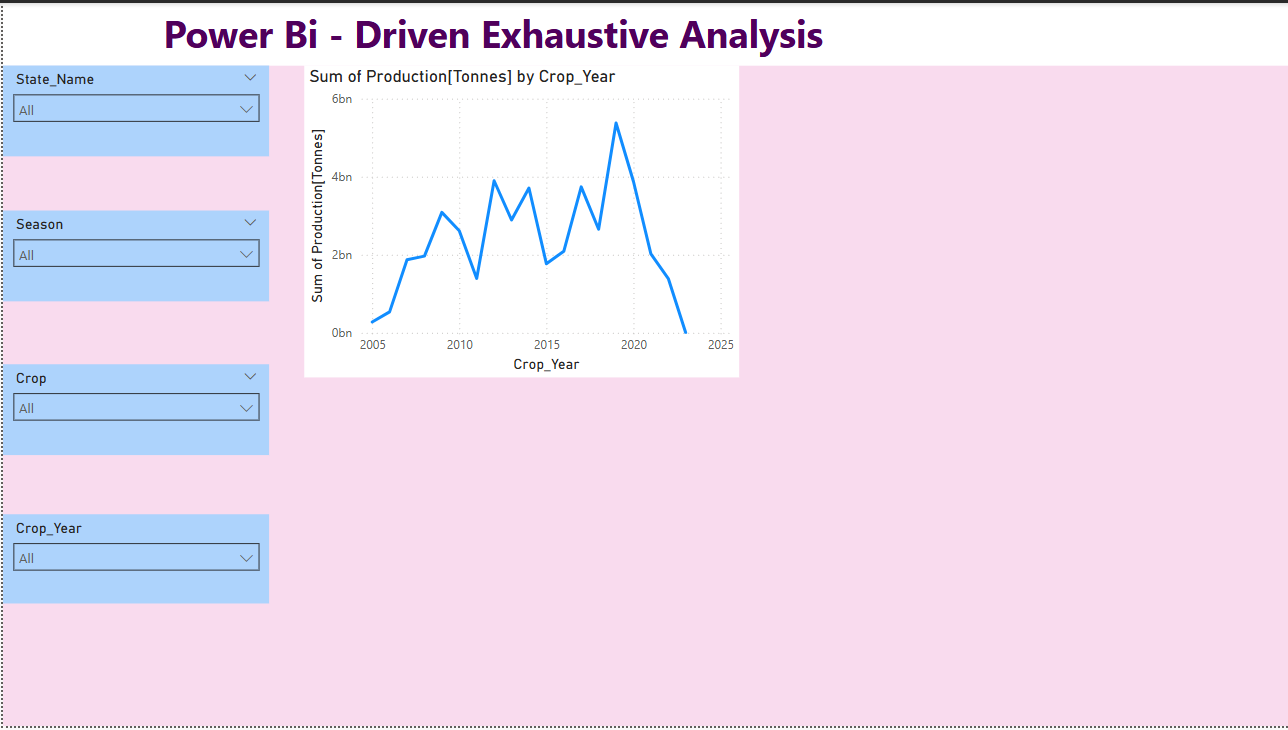

The page's visual inventory and layout, read from the dashboard file:
{"tool":"powerbi","page":{"name":"week 1","canvas":[1280,720],"ordinal":1},"visuals":[{"type":"textbox","box":[0,0,1280,62.5],"z":0},{"type":"slicer","fields":{"Values":["Crop_data.State_Name"]},"box":[0,62.5,265,90],"z":1000},{"type":"slicer","fields":{"Values":["Crop_data.Crop"]},"box":[0,360,265,90],"z":2000},{"type":"slicer","fields":{"Values":["Crop_data.Season"]},"box":[0,206.2,265,90],"z":3000},{"type":"slicer","fields":{"Values":["Crop_data.Crop_Year"]},"box":[0,508.8,265,88.8],"z":4000},{"type":"lineChart","fields":{"Category":["Crop_data.Crop_Year"],"Y":["Sum(Crop_data.Production[Tonnes])"]},"box":[300,62.5,432.5,310],"z":4001}]}

Visuals, with their boxes in screenshot pixels (x1, y1, x2, y2), scaled from the page's 1280x720 canvas onto the 1288x730 screenshot:
textbox: bbox=(0, 0, 1287, 63)
slicer - Crop_data.State_Name: bbox=(0, 63, 267, 155)
slicer - Crop_data.Crop: bbox=(0, 365, 267, 456)
slicer - Crop_data.Season: bbox=(0, 209, 267, 300)
slicer - Crop_data.Crop_Year: bbox=(0, 516, 267, 606)
lineChart - Crop_data.Crop_Year x Sum(Crop_data.Production[Tonnes]): bbox=(302, 63, 737, 378)
